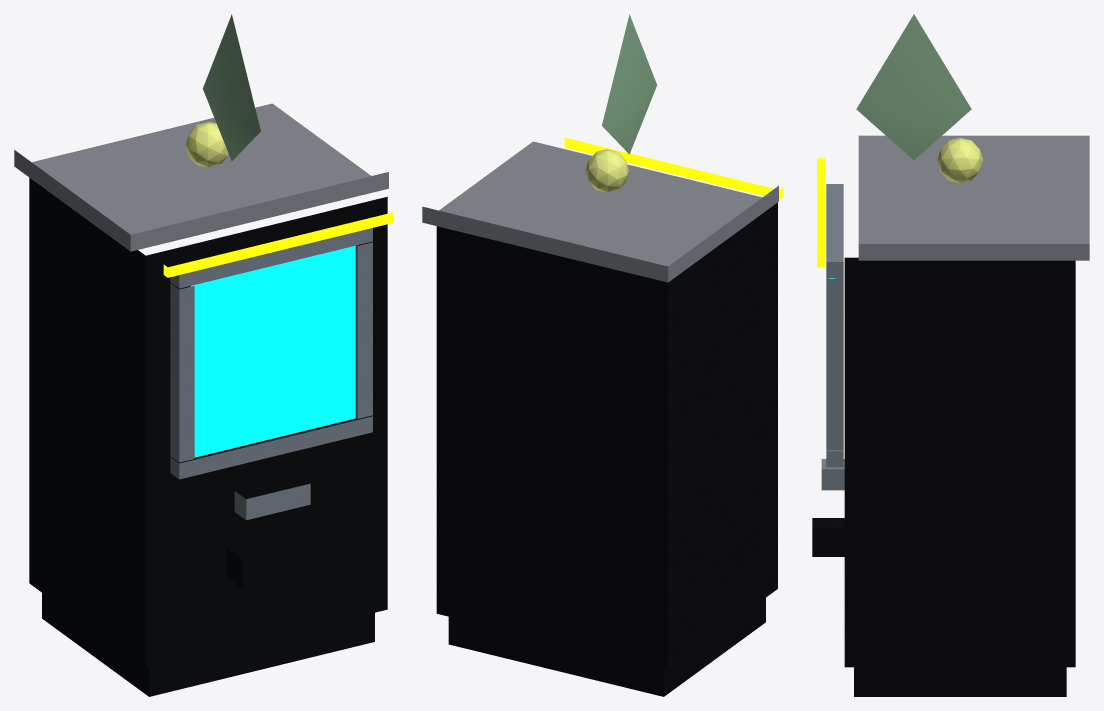
Rendered from v1_court_kiosk.glb.
3 renders of one model, left to right at view 1: azimuth 30°, elevation 25°; view 2: azimuth 150°, elevation 25°; view 3: azimuth 270°, elevation 25°, orthographic. The views are drawn at different scales.
Visible parts, largest first — view 1: Kiosk_Body, Kiosk_Screen, Kiosk_Top, Kiosk_Bezel, Leaf_Crest, Ticket_Mouth, Court_Line_LED, Card_Slot, Ball_Finial; view 2: Kiosk_Body, Kiosk_Top, Leaf_Crest, Court_Line_LED, Ball_Finial; view 3: Kiosk_Body, Kiosk_Top, Leaf_Crest, Kiosk_Bezel, Ball_Finial, Ticket_Mouth, Court_Line_LED, Card_Slot.
Boxes of the visible parts, x1,y1,x2,y2 form: Kiosk_Body: (29,178,387,696); Kiosk_Screen: (190,245,355,457); Kiosk_Top: (14,103,388,251); Kiosk_Bezel: (170,228,372,479); Leaf_Crest: (203,14,260,161); Ticket_Mouth: (226,540,323,588); Court_Line_LED: (163,212,393,277); Card_Slot: (234,483,310,520); Ball_Finial: (185,122,228,167); Kiosk_Body: (436,202,777,696); Kiosk_Top: (422,141,778,282); Leaf_Crest: (602,14,656,154); Court_Line_LED: (564,137,783,199); Ball_Finial: (585,149,629,192); Kiosk_Body: (844,257,1075,696); Kiosk_Top: (858,135,1089,260); Leaf_Crest: (856,14,971,160); Kiosk_Bezel: (826,184,843,467); Ball_Finial: (937,137,983,183); Ticket_Mouth: (812,518,844,556); Court_Line_LED: (817,158,825,267); Card_Slot: (821,459,844,490).
Size of what is drawn, in the model's own units: 0.64 by 1.5 by 0.6.
7 materials, 2 textured.
